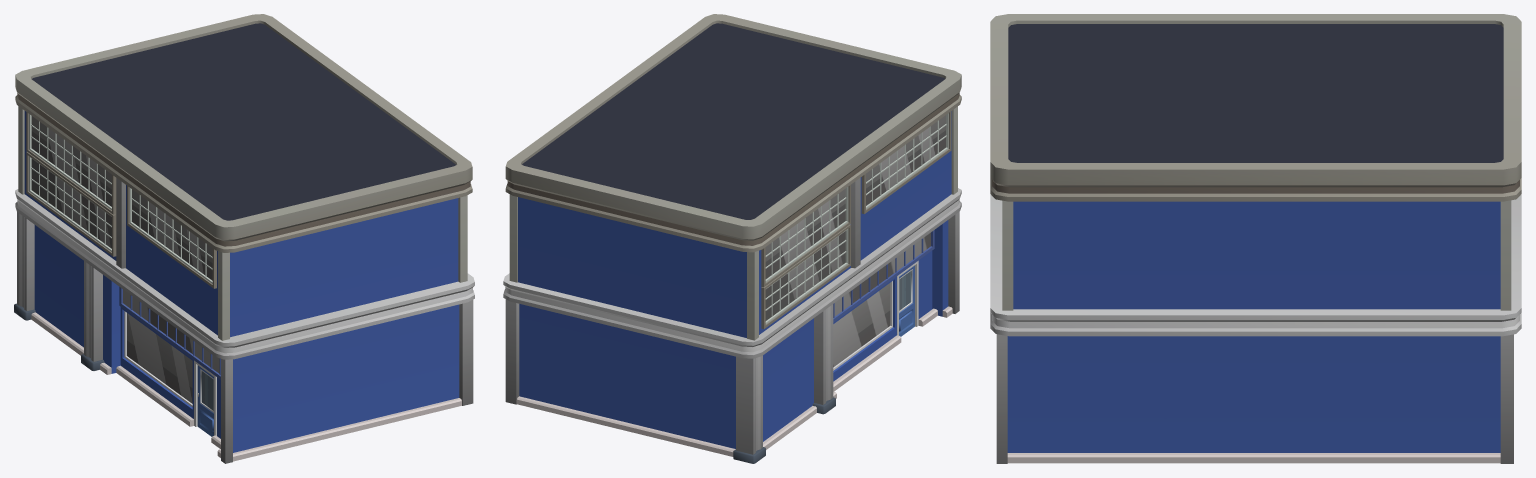
The model's file is Building_11_3_F.glb.
3 renders of one model, left to right at view 1: azimuth 30°, elevation 25°; view 2: azimuth 150°, elevation 25°; view 3: azimuth 270°, elevation 25°, orthographic. The views are drawn at different scales.
Parts seen in each view (by area): view 1: Building_11_3_F; view 2: Building_11_3_F; view 3: Building_11_3_F.
Boxes of the visible parts, x1=… form: Building_11_3_F: x1=14, y1=14, x2=474, y2=463; Building_11_3_F: x1=503, y1=14, x2=961, y2=463; Building_11_3_F: x1=990, y1=14, x2=1521, y2=463.
Size of the model in its own units: 8.14 by 7.15 by 11.63.
Materials: 3 (3 with a texture image).
